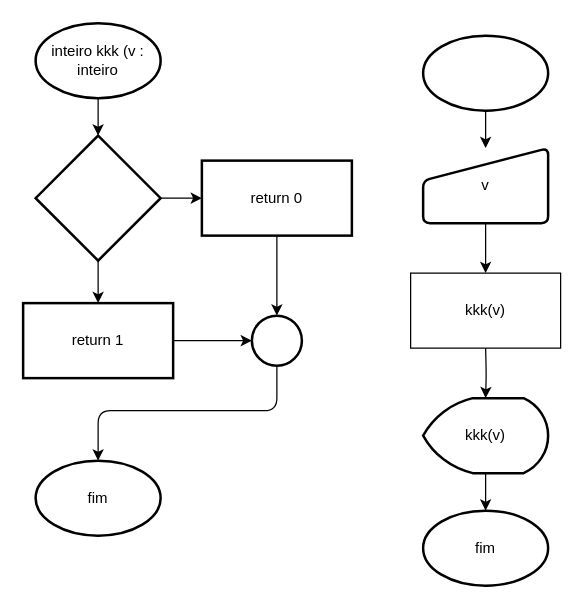
Some shapes in this 583 by 608 pixel diagram are drawn without their labels. Each missing label, with the centre of its shape:
"inicio" goes at (x=485, y=72).
"v > 0" goes at (x=97, y=197).
